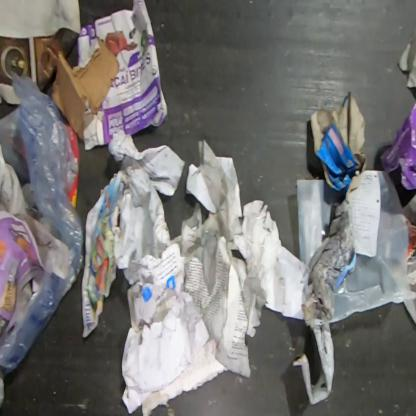cardboard: (76, 0, 169, 151), (51, 37, 120, 142)
soft_plastic: (0, 71, 85, 377), (330, 170, 414, 324), (296, 179, 333, 268)
